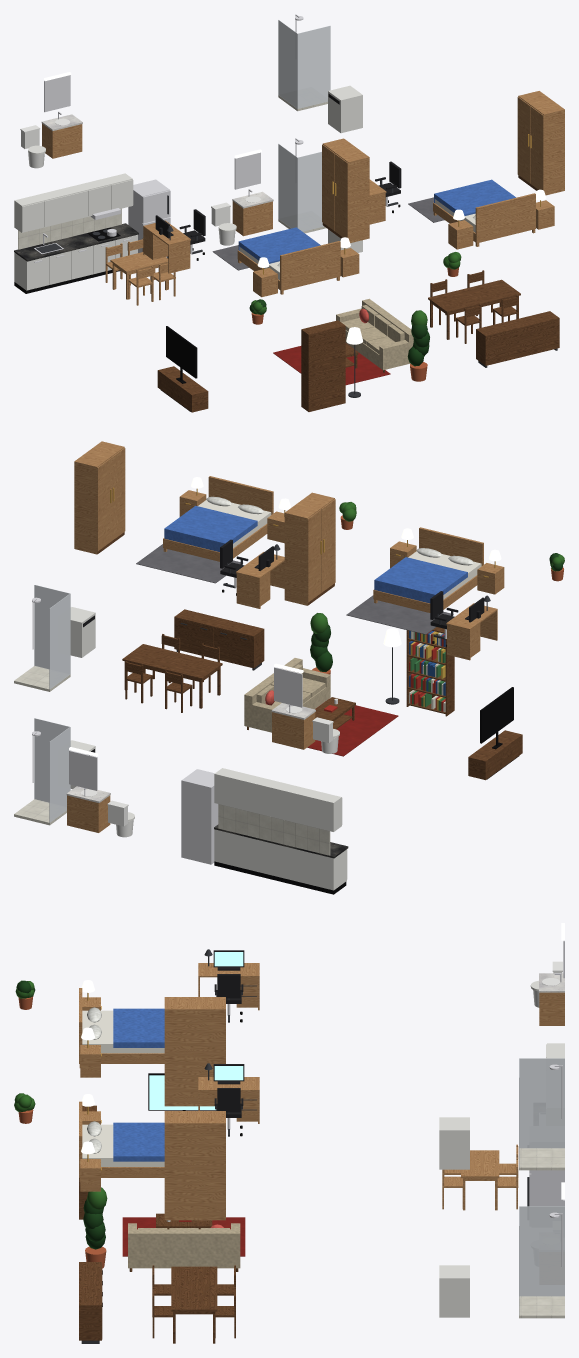
Rendered from i_swiss_chalet.gltf.
3 renders of one model, top to bottom at view 1: azimuth 30°, elevation 25°; view 2: azimuth 150°, elevation 25°; view 3: azimuth 270°, elevation 25°, orthographic. The views are drawn at different scales.
Parts seen in each view (by area): view 1: I_swiss_chalet; view 2: I_swiss_chalet; view 3: I_swiss_chalet.
Part boxes in pixels (box(x1,y1,x2,y2)): I_swiss_chalet: box(14, 14, 564, 412); I_swiss_chalet: box(14, 441, 564, 894); I_swiss_chalet: box(14, 923, 564, 1343).
Bounding box in the file's own units: 10.36 × 5.3 × 10.79.
Materials: 33 (12 with a texture image).
